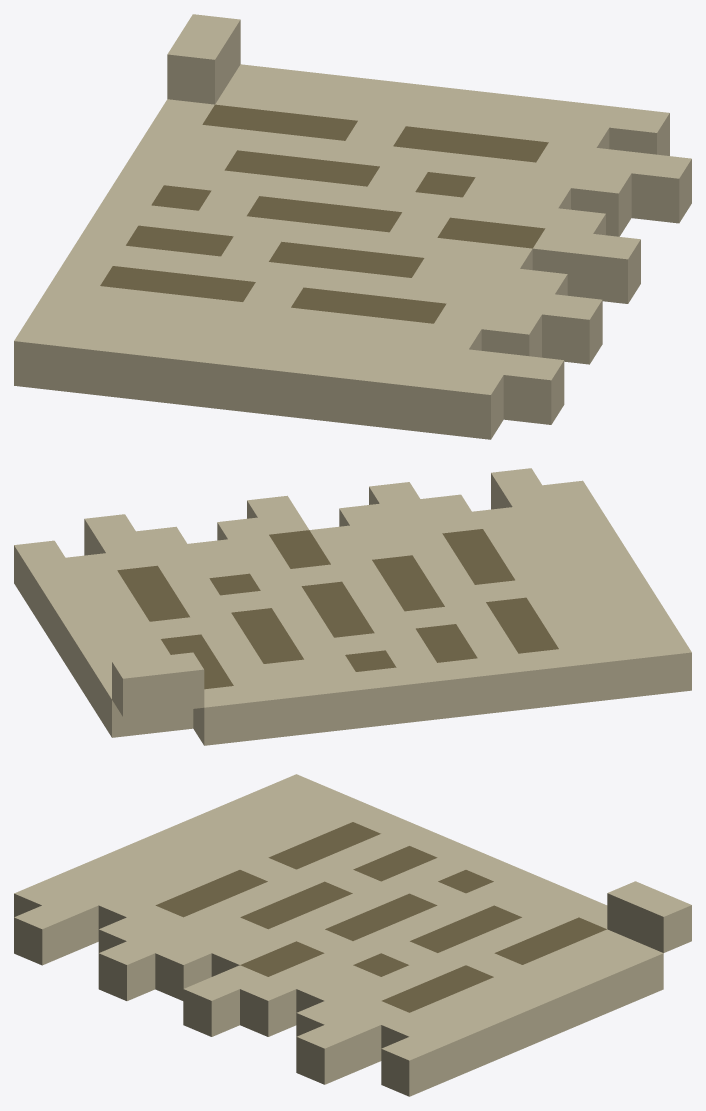
File: item_GUIDE_PAGE.glb
3 views of the same model, one above another, from view 1: azimuth 30°, elevation 25°; view 2: azimuth 150°, elevation 25°; view 3: azimuth 270°, elevation 25° (orthographic). The views are drawn at different scales.
Parts seen in each view (by area): view 1: item_GUIDE_PAGE; view 2: item_GUIDE_PAGE; view 3: item_GUIDE_PAGE.
Part boxes in pixels (x1,y1,x2,y2): item_GUIDE_PAGE: (14,14,691,439); item_GUIDE_PAGE: (14,468,691,745); item_GUIDE_PAGE: (14,774,691,1096).
Bounding box in the file's own units: 0.3857 × 0.0455 × 0.3857.
1 material, 1 textured.
